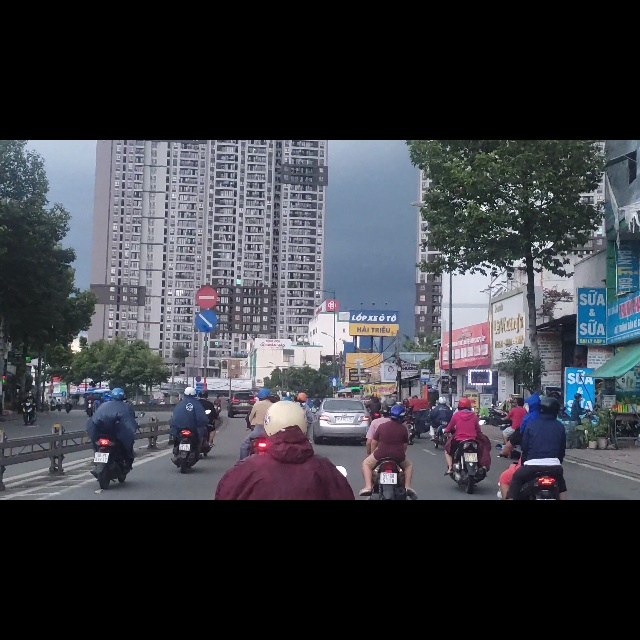bien_hieu_lenh: (194, 257, 220, 301), (195, 302, 220, 342), (420, 405, 430, 430), (329, 421, 339, 438)
